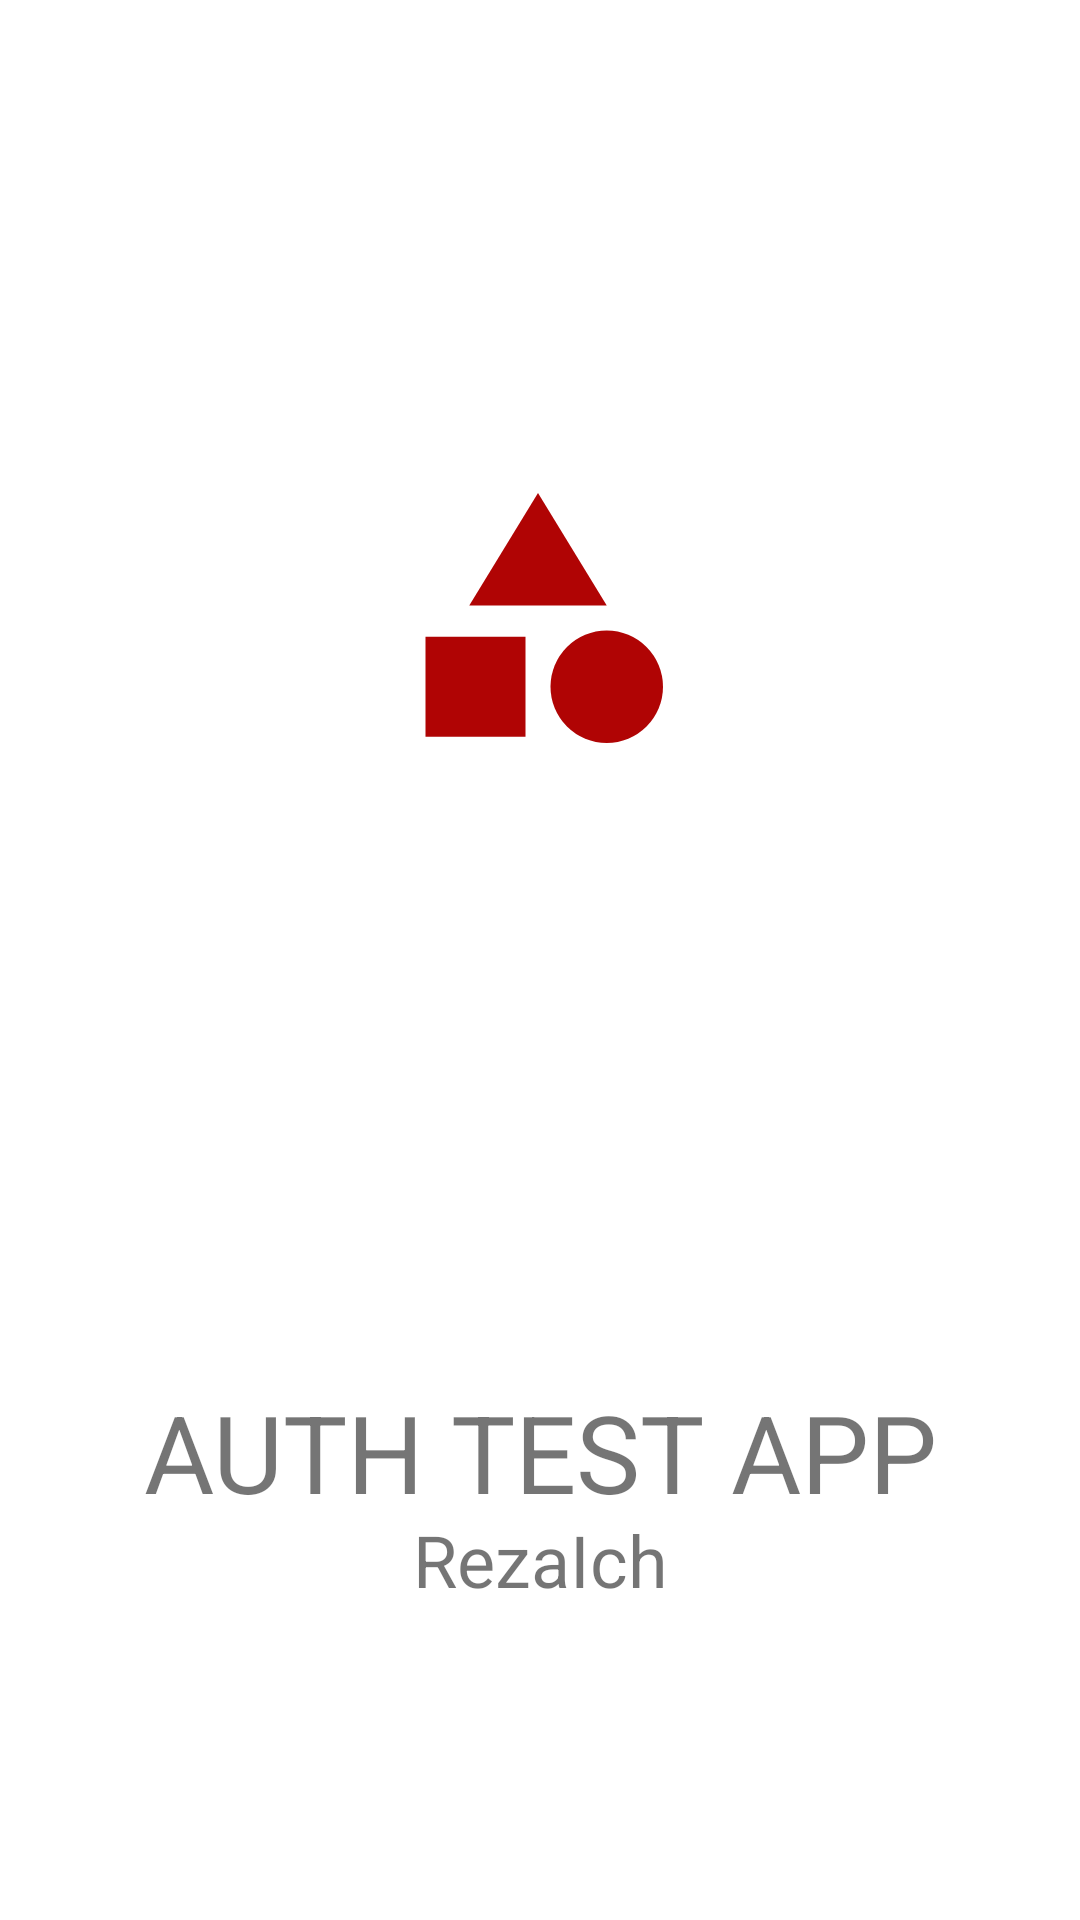

Icons on this 1080x1920 Android screen, each with the point to tap as [x,y]:
category: [544,618]
